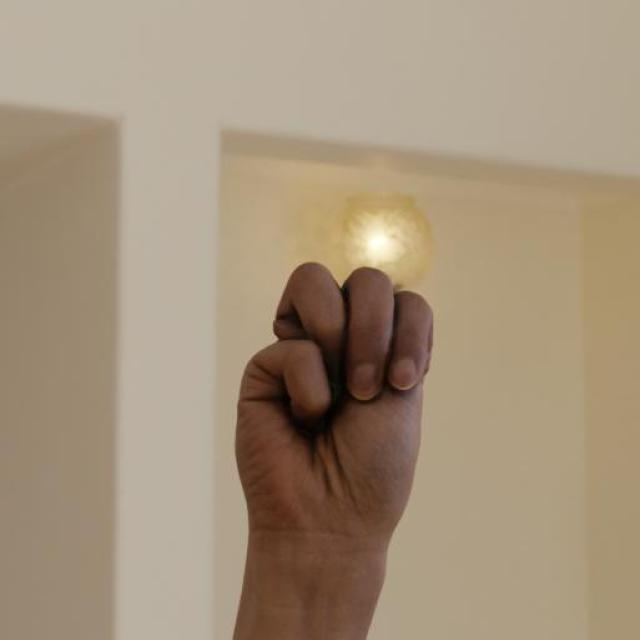M: (232, 258, 438, 544)
